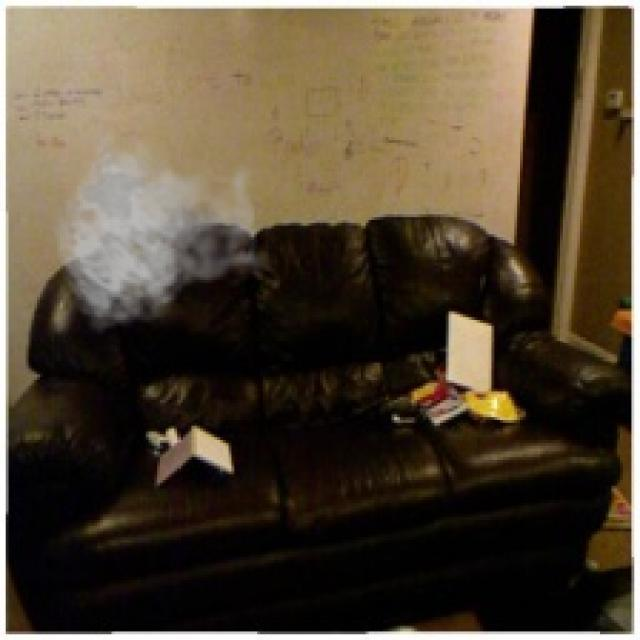Smoke: (52, 128, 274, 334)
